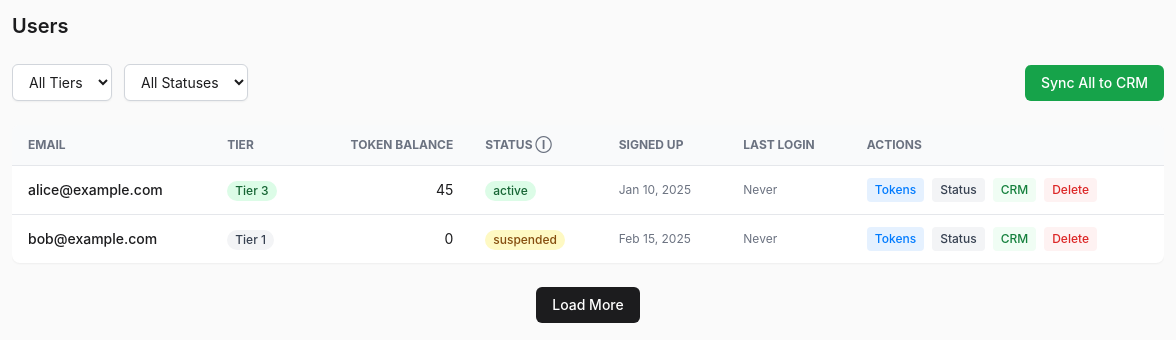
Test: AdminUsersPage › loads more users when Load More is clicked
Expected: the text "alice@example.com" is shown, [12, 166, 211, 214]
Click the button "Load More".
click(588, 305)  # box [536, 287, 640, 323]
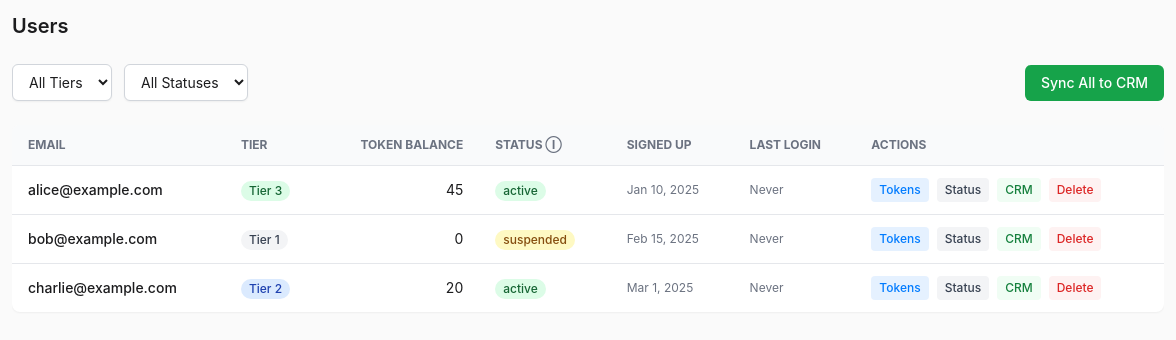
Expected: the text "alice@example.com" is shown, [12, 166, 225, 214]
Expected: the text "charlie@example.com" is shown, [12, 264, 225, 312]
